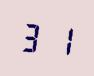one: (46, 20, 72, 58)
three: (19, 17, 45, 55)
